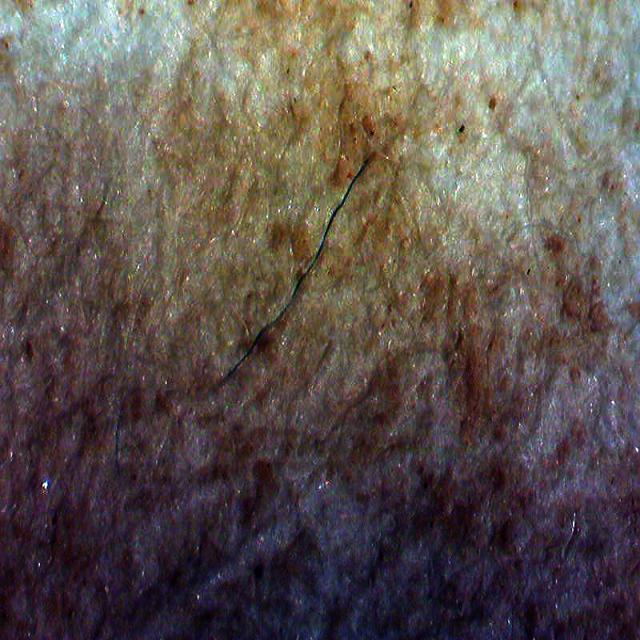microplastic: (228, 166, 371, 381)
